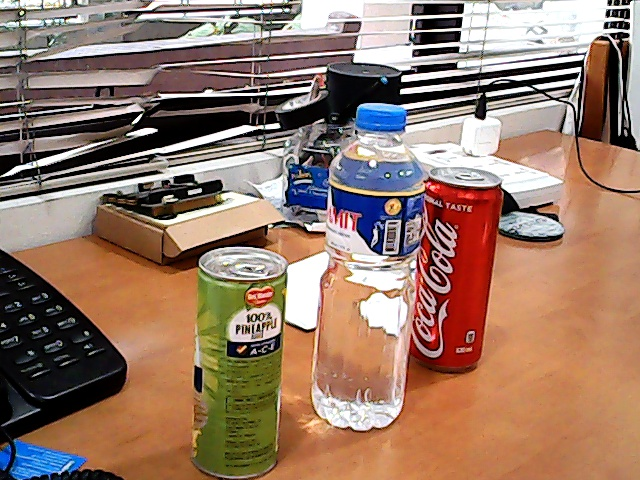Cola: (409, 157, 508, 387)
Pine Juice: (178, 240, 287, 480)
Summit Water: (307, 90, 425, 451)
